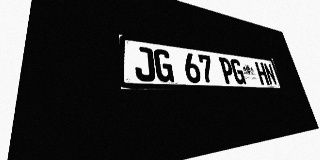6: (182, 52, 202, 83)
7: (197, 54, 216, 83)
G: (153, 48, 174, 82), (230, 58, 246, 84)
H: (254, 62, 270, 85)
J: (133, 46, 156, 82)
N: (263, 63, 278, 85)
P: (218, 57, 236, 84)
